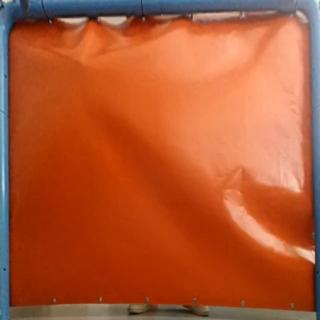Hit-hRxx: (69, 56, 88, 69)
